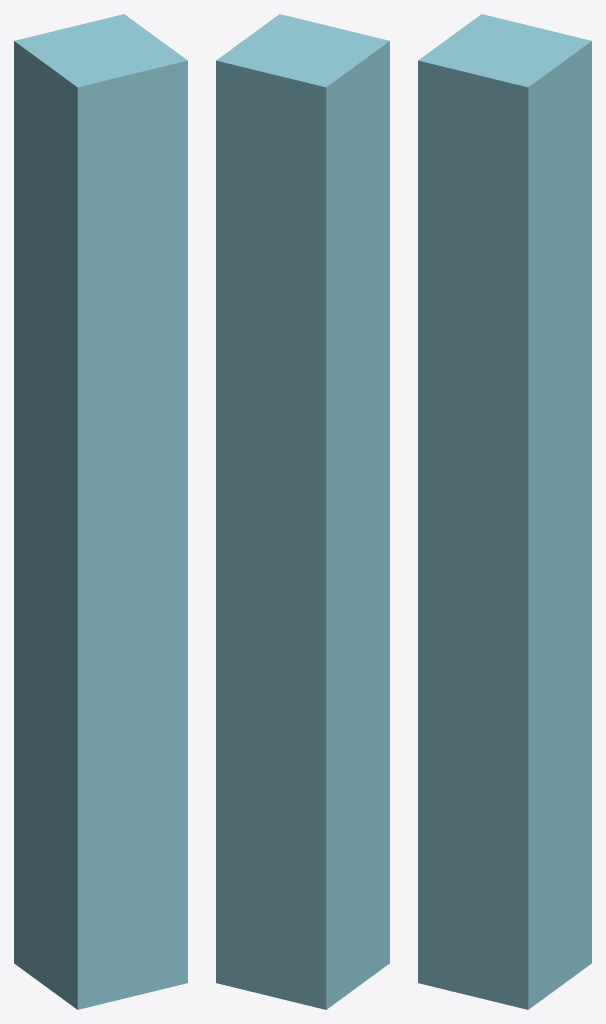
Rendered from rod.obj.
The picture shows the model from 3 angles, left to right: view 1: azimuth 30°, elevation 25°; view 2: azimuth 150°, elevation 25°; view 3: azimuth 330°, elevation 25°; orthographic projection.
Visible parts, largest first — view 1: Box001; view 2: Box001; view 3: Box001.
Boxes of the visible parts, x1,y1,x2,y2 form: Box001: [14, 14, 187, 1009]; Box001: [216, 14, 389, 1009]; Box001: [418, 14, 591, 1009].
Bounding box in the file's own units: 2 × 16 × 2.
